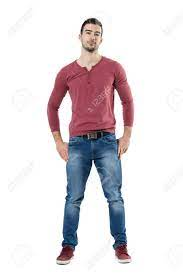height_frame: (47, 16, 138, 264)
hip_frame: (69, 138, 117, 144)
shoulder_frame: (56, 67, 124, 72)
waist_frame: (72, 113, 115, 117)
